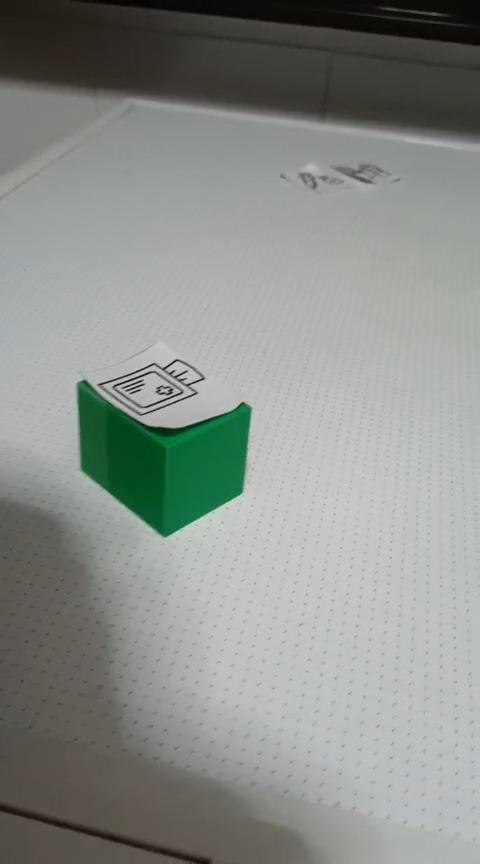Gauze: (75, 339, 253, 538)
